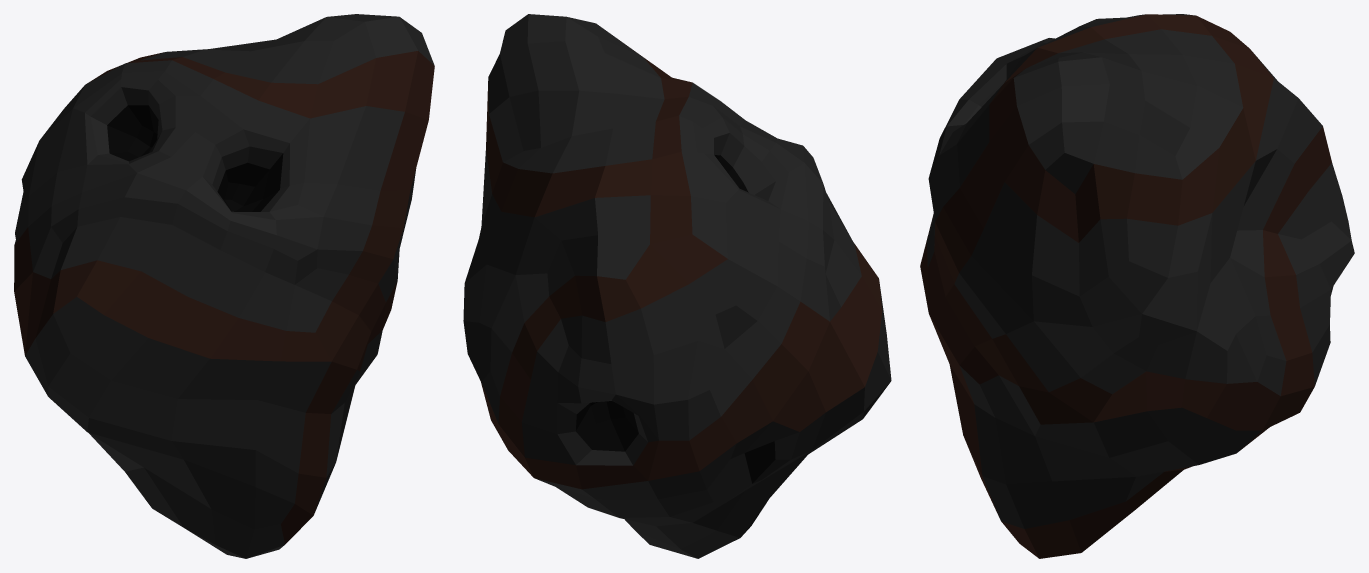
The model's file is Asteroid 2.fbx.
3 renders of one model, left to right at view 1: azimuth 30°, elevation 25°; view 2: azimuth 150°, elevation 25°; view 3: azimuth 270°, elevation 25°, orthographic. The views are drawn at different scales.
Parts seen in each view (by area): view 1: Retopo_Icosphere; view 2: Retopo_Icosphere; view 3: Retopo_Icosphere.
Boxes of the visible parts, bbox=[...] form: Retopo_Icosphere: bbox=[14, 14, 434, 558]; Retopo_Icosphere: bbox=[463, 14, 891, 558]; Retopo_Icosphere: bbox=[920, 14, 1354, 558].
Bounding box in the file's own units: 530 × 663 × 477.
